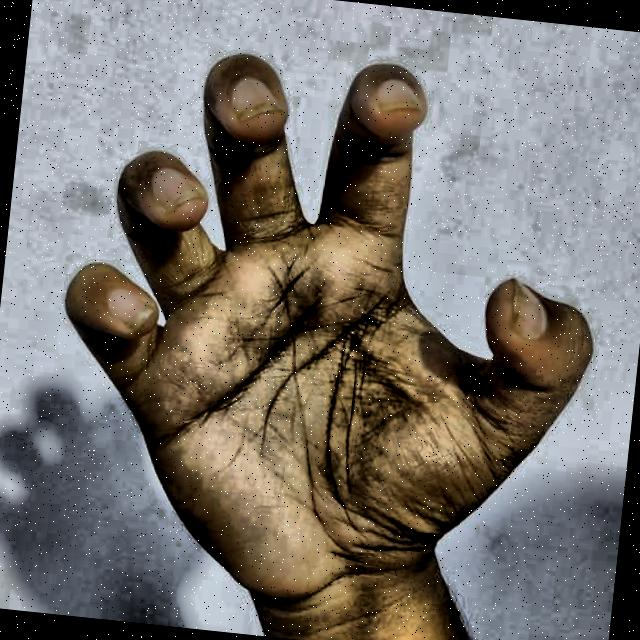Ja: (20, 9, 640, 640)
